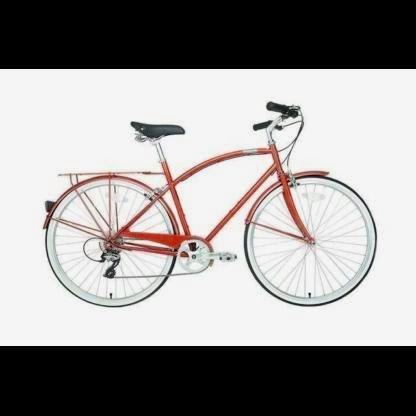Bicycle: (40, 91, 382, 311)
